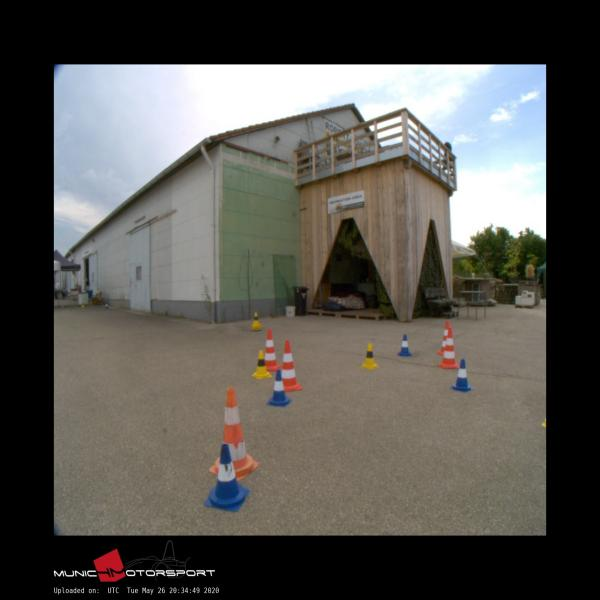blue_cone: (205, 444, 250, 512), (266, 370, 290, 406), (450, 359, 473, 391), (398, 334, 410, 355)
large_orange_cone: (208, 387, 258, 481), (280, 340, 302, 391), (438, 327, 459, 368), (262, 329, 280, 370), (437, 320, 455, 354)
yellow_cone: (252, 350, 271, 379), (360, 342, 378, 368), (252, 312, 259, 325)
